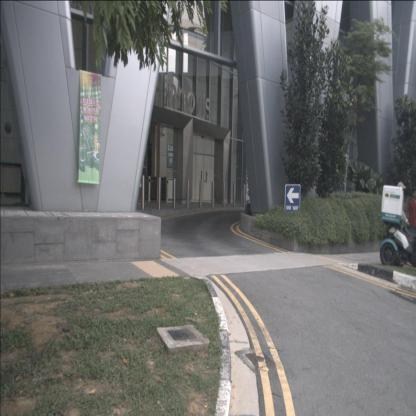human-pedestrian-adult: (396, 181, 408, 267), (406, 187, 416, 262)
vehicle-motorcycle: (379, 182, 416, 268)
